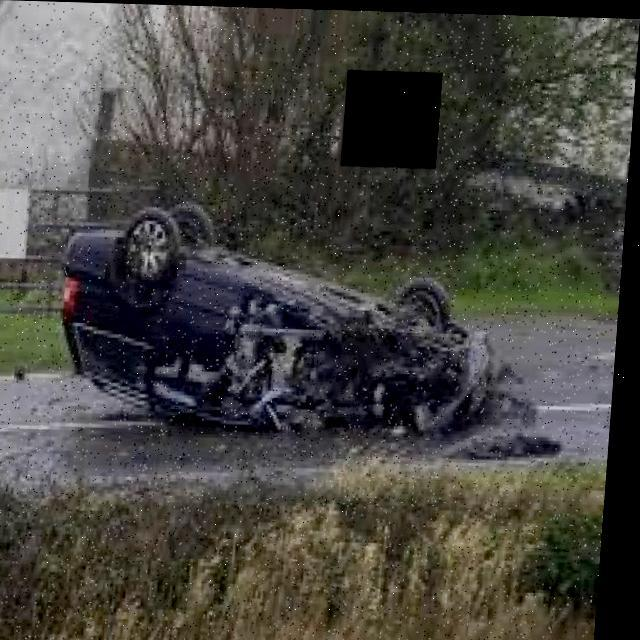single accident: (31, 165, 523, 470)
